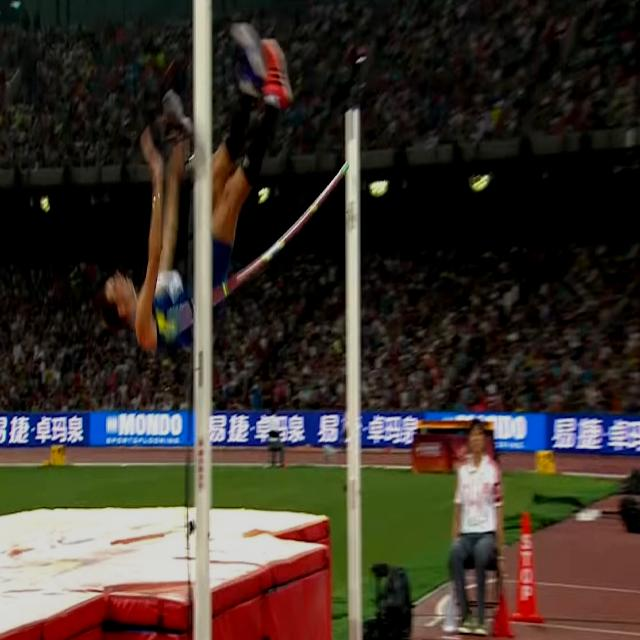land: (105, 18, 294, 352)
